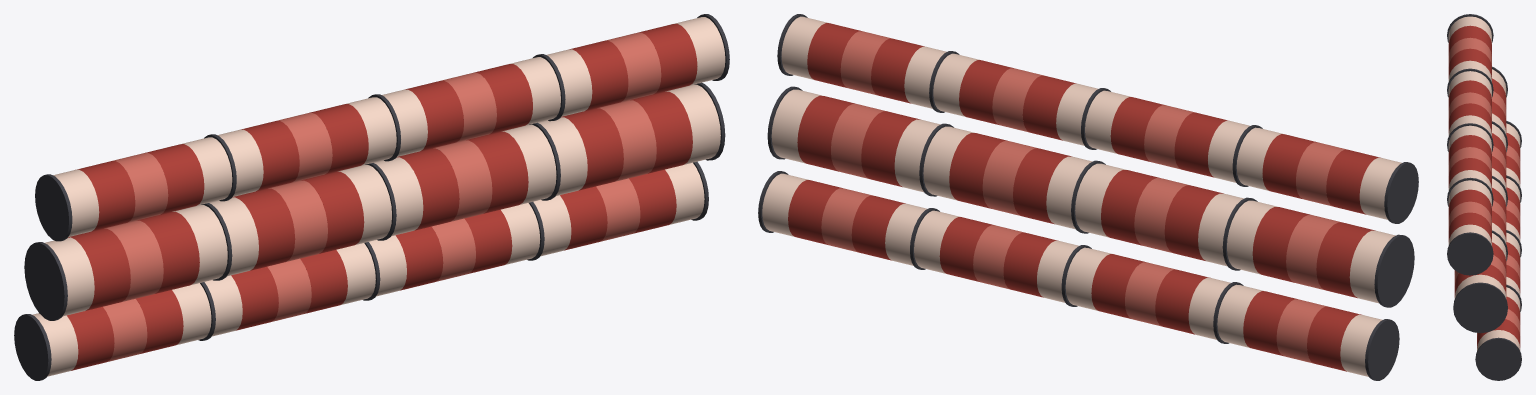
Rendered from myofibril.glb.
The picture shows the model from 3 angles, left to right: view 1: azimuth 30°, elevation 25°; view 2: azimuth 150°, elevation 25°; view 3: azimuth 270°, elevation 25°; orthographic projection. The views are drawn at different scales.
Parts seen in each view (by area): view 1: A bands, I bands, H zones, Z discs; view 2: A bands, I bands, H zones, Z discs; view 3: A bands, Z discs, I bands, H zones.
Part boxes in pixels (x1,y1,x2,y2): A bands: (67,23,697,370); I bands: (32,17,725,376); H zones: (103,32,661,361); Z discs: (14,14,729,380); A bands: (788,23,1380,371); I bands: (762,16,1401,376); H zones: (821,31,1346,363); Z discs: (758,14,1418,380); A bands: (1448,25,1520,347); Z discs: (1447,14,1521,380); I bands: (1448,16,1520,350); H zones: (1448,37,1520,335).
Bounding box in the file's own units: 10.05 × 3.15 × 1.45.
